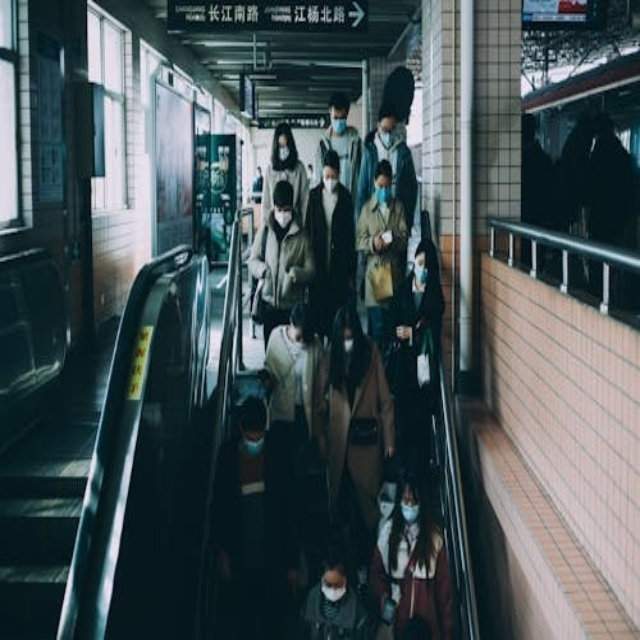Mascara: (321, 581, 347, 602), (243, 435, 265, 456), (286, 331, 305, 355), (377, 496, 396, 520), (400, 502, 421, 523), (274, 209, 292, 228), (379, 128, 396, 148), (323, 177, 339, 194), (376, 186, 392, 203), (414, 265, 428, 284), (332, 119, 347, 135), (343, 338, 354, 353), (279, 147, 290, 161), (307, 167, 314, 182), (256, 171, 262, 180)
